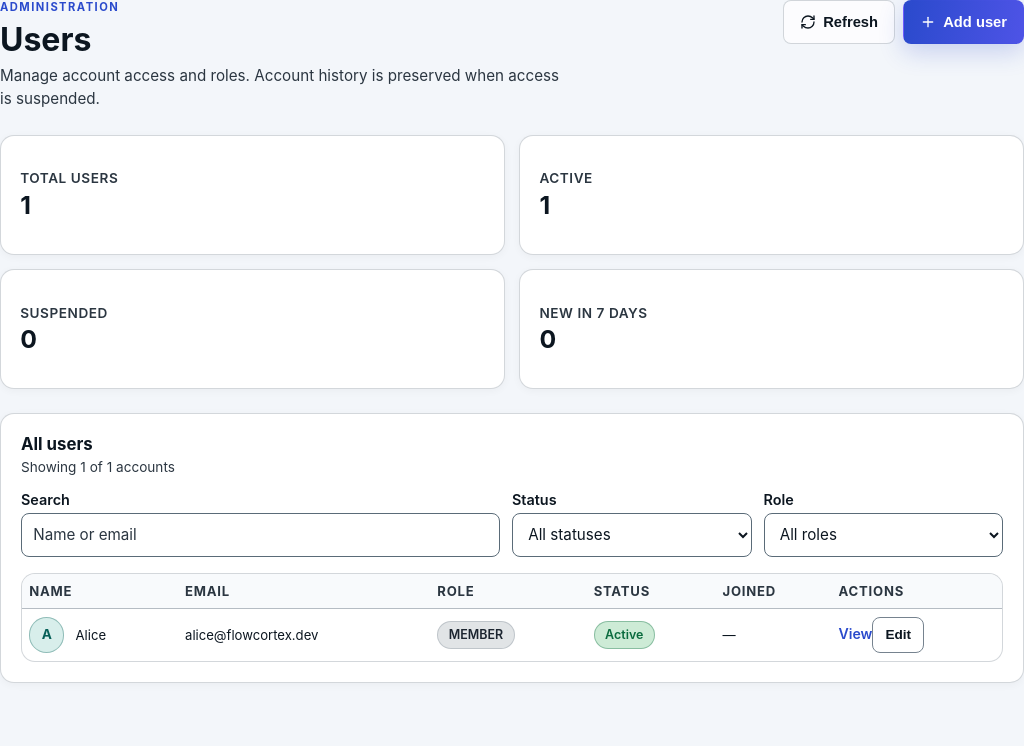
Test: UsersPage › creates a user through POST /api/v1/users and refreshes the list
Expected: the text "alice@flowcortex.dev" is shown, left=178, top=608, right=430, bottom=661
Click the button "Add user" at (964, 22), box left=903, top=0, right=1023, bottom=44
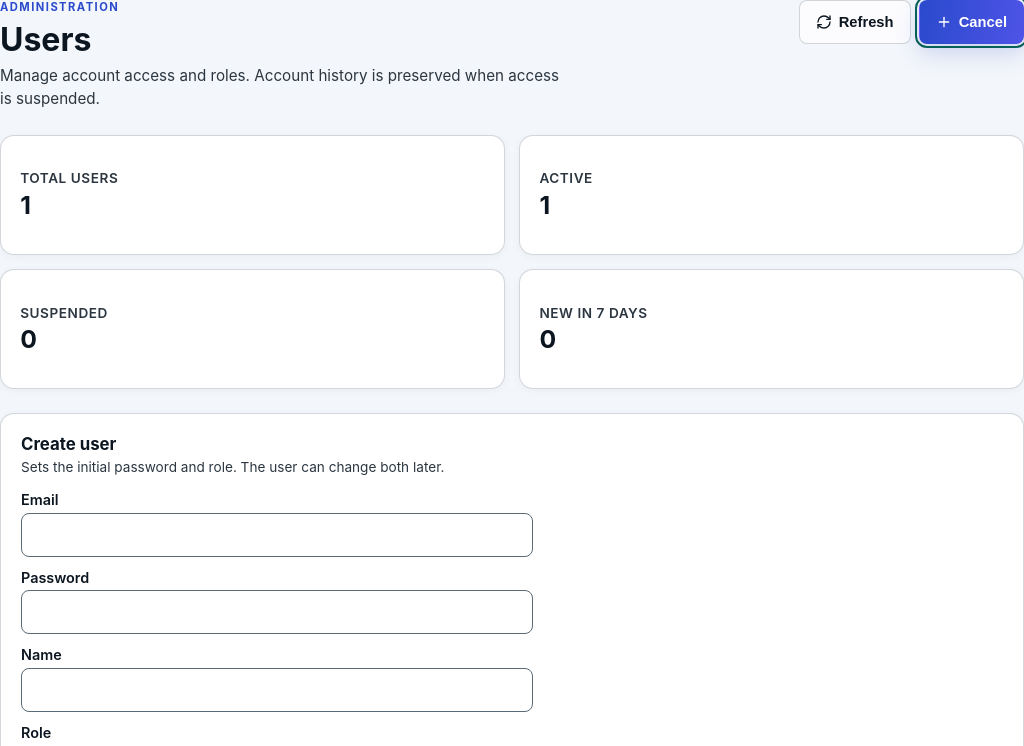
Type "bob@flowcortex.dev" into the field labelled "Email" at (277, 535), box left=21, top=513, right=533, bottom=557
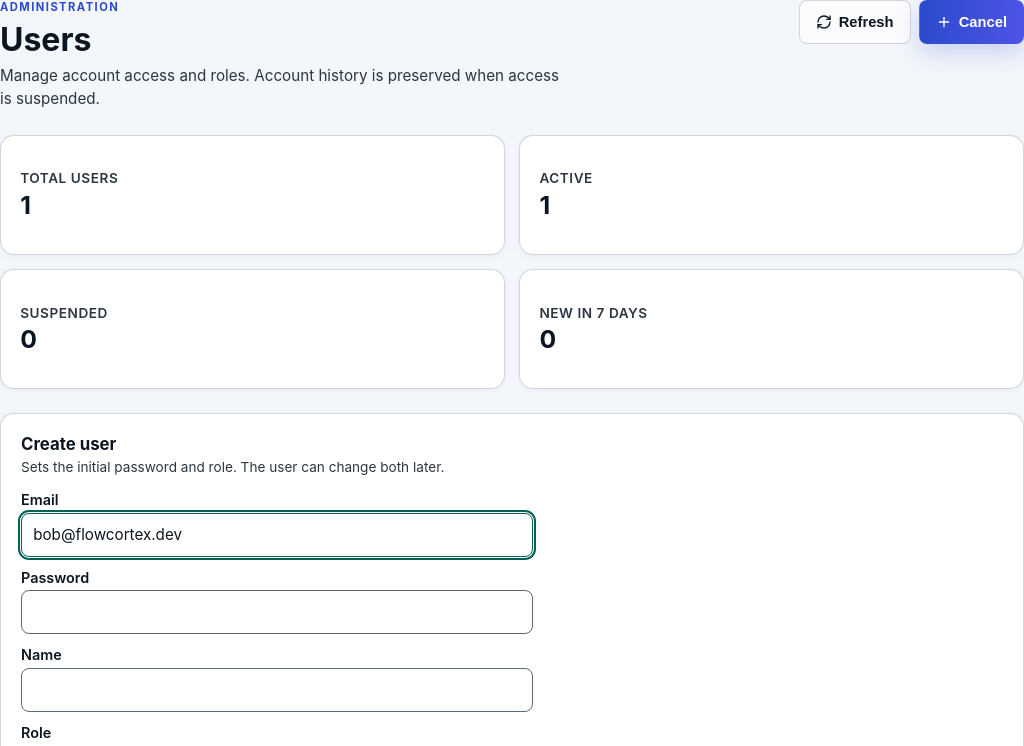
Type "long-enough-password" into the password field labelled "Password" at (277, 612), box left=21, top=590, right=533, bottom=634
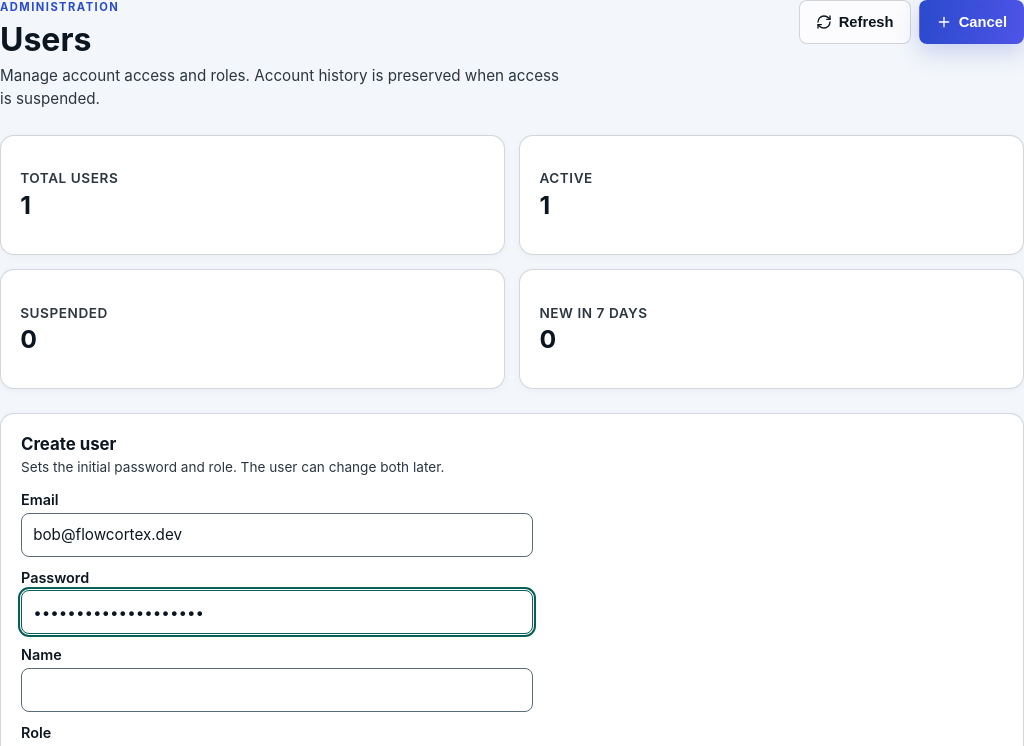
Type "Bob" into the field labelled "Name" at (277, 690), box left=21, top=668, right=533, bottom=712
(page scrolled)
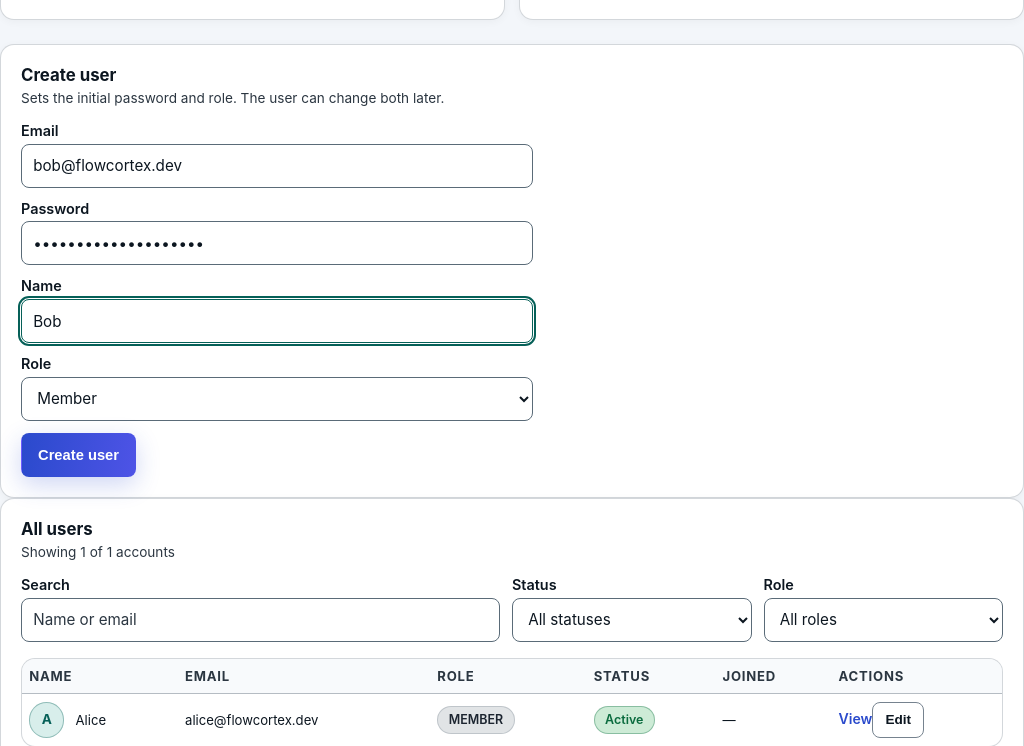
Click the button "Create user" at (78, 455), box left=21, top=433, right=136, bottom=477
(page scrolled)
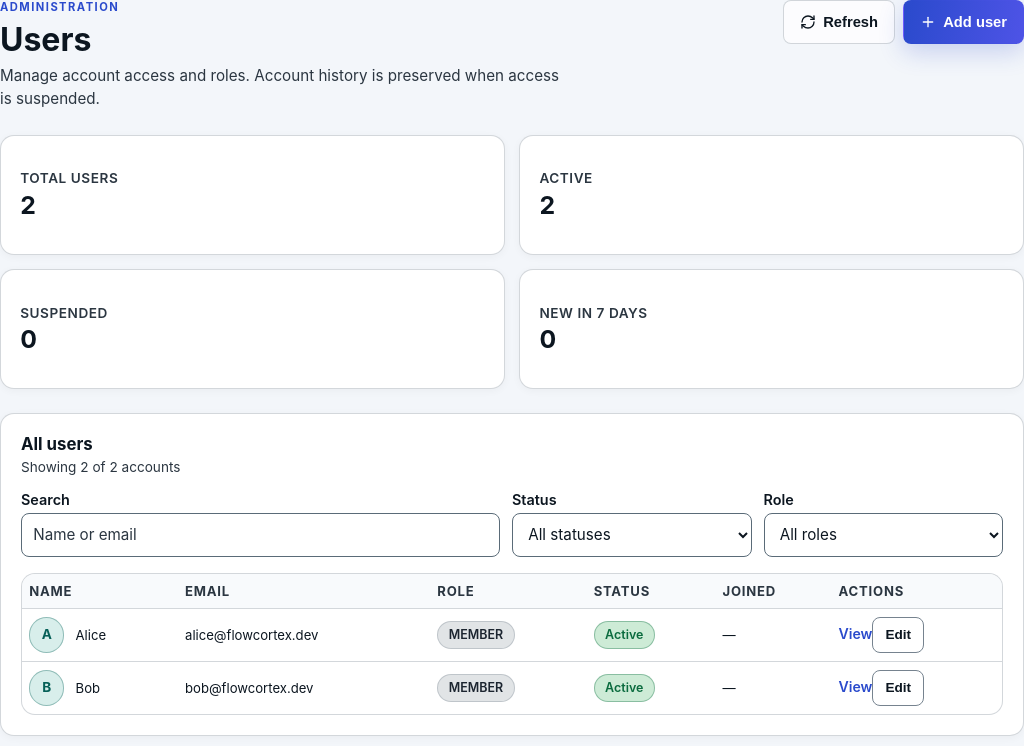
Expected: the text "bob@flowcortex.dev" is shown, left=178, top=661, right=430, bottom=714
